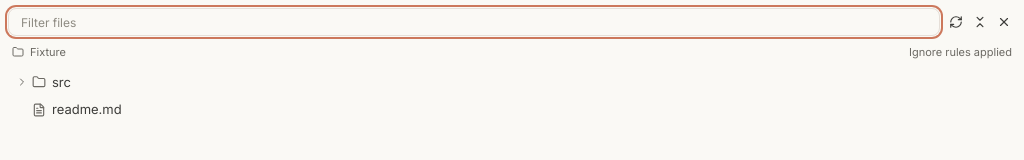
Test case: supports filter IME and Escape without intercepting outside keys
The image size is (1024, 160).
Check: the list item "readme.md" is shown, box [32,101,122,117]
Step 1. Type "name" into the field labelled "Filter files" → [474, 22], box [8,8,940,36]
Wait 550 ms
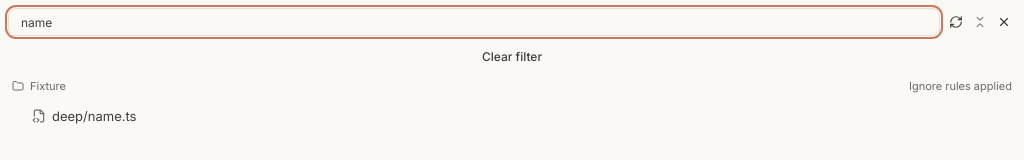
Step 2. Press Escape in the field named "Filter files", box [8,8,940,36]
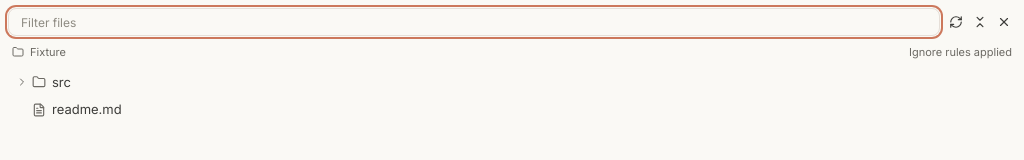
Check: the field labelled "Filter files" is empty, box [8,8,940,36]
Check: the list item "readme.md" is shown, box [32,101,122,117]
